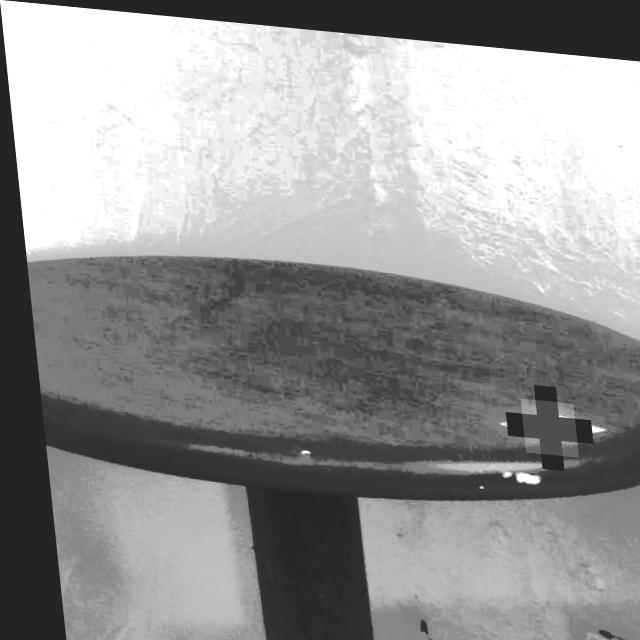qr_code: (513, 389, 570, 447)
